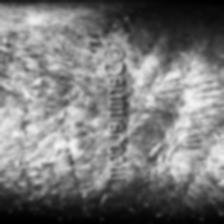Non-Cancerous Skin Condition: (1, 29, 92, 176)
